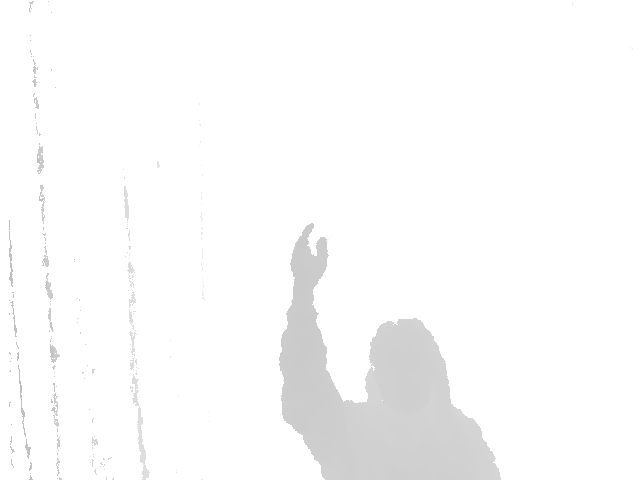hand: (286, 222, 332, 295)
head: (361, 317, 454, 416)
person: (277, 221, 503, 480)
